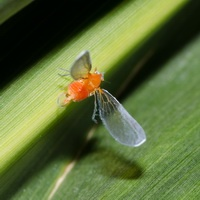insect: (57, 50, 145, 146)
